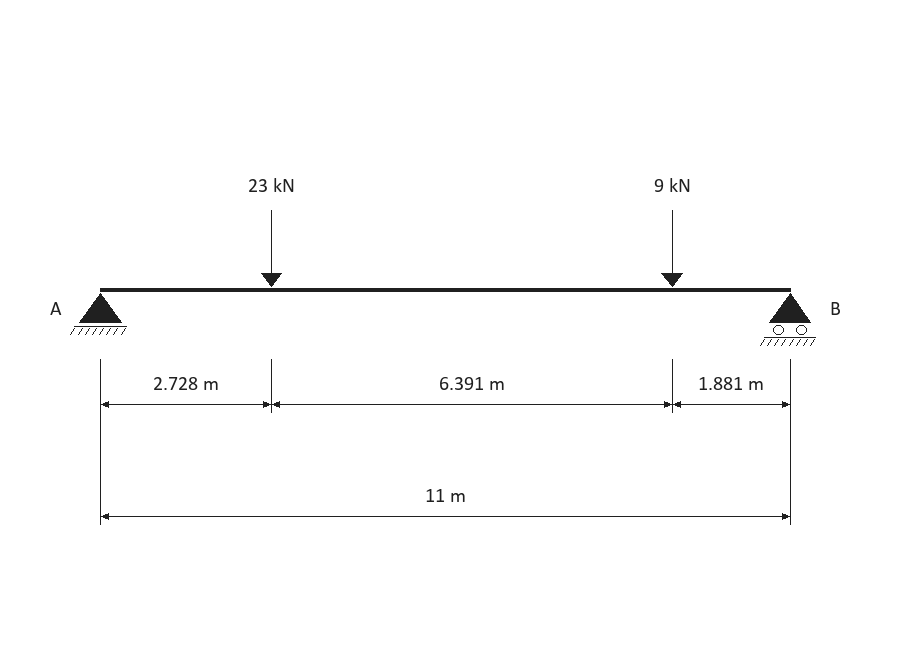pin_support: (70, 293, 127, 335)
point_load: (661, 210, 683, 287), (261, 210, 282, 287)
roller_support: (760, 293, 816, 346)
